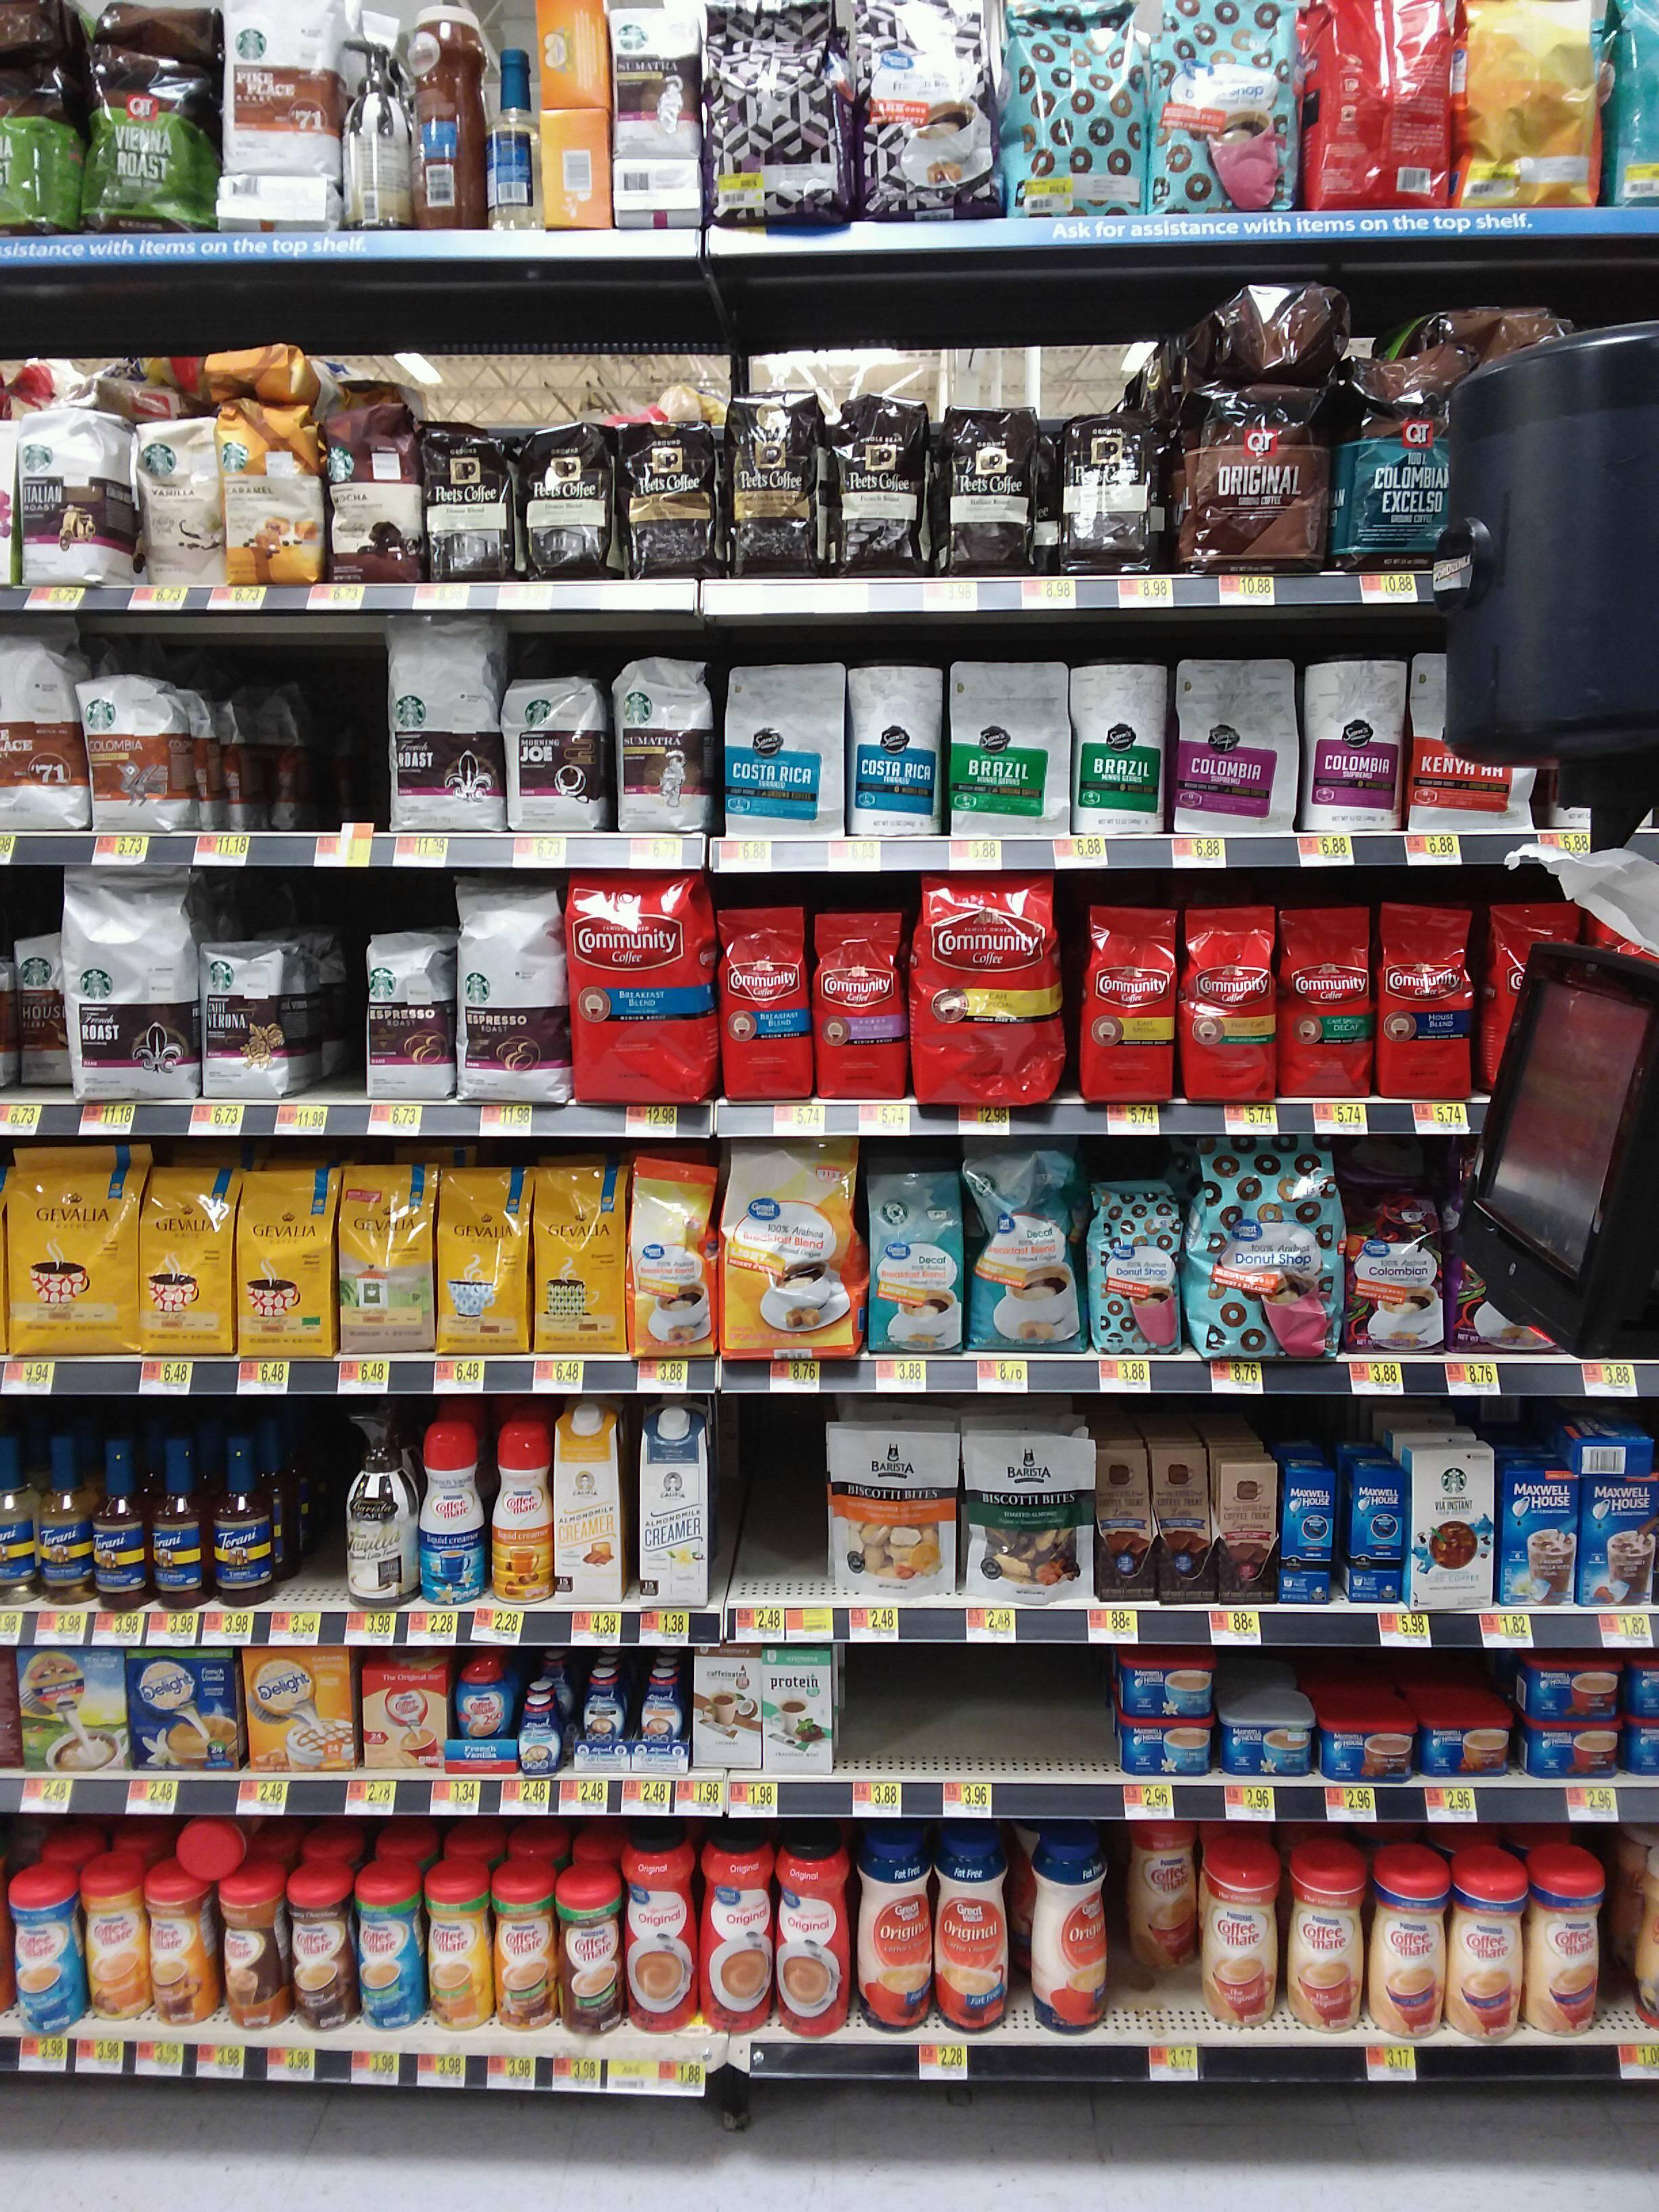empty: (838, 1649, 1108, 1775), (234, 669, 373, 833), (709, 1449, 819, 1597), (275, 1442, 352, 1602)
